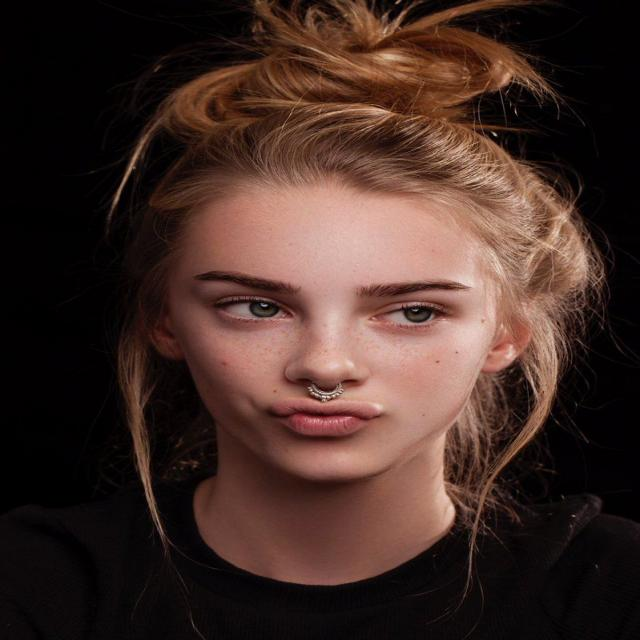earlobe: (480, 341, 518, 374), (154, 332, 186, 361)
eye: (366, 302, 453, 328), (215, 298, 296, 321)
nose: (284, 375, 369, 404)
wholeear: (480, 284, 537, 374), (137, 283, 186, 361)
